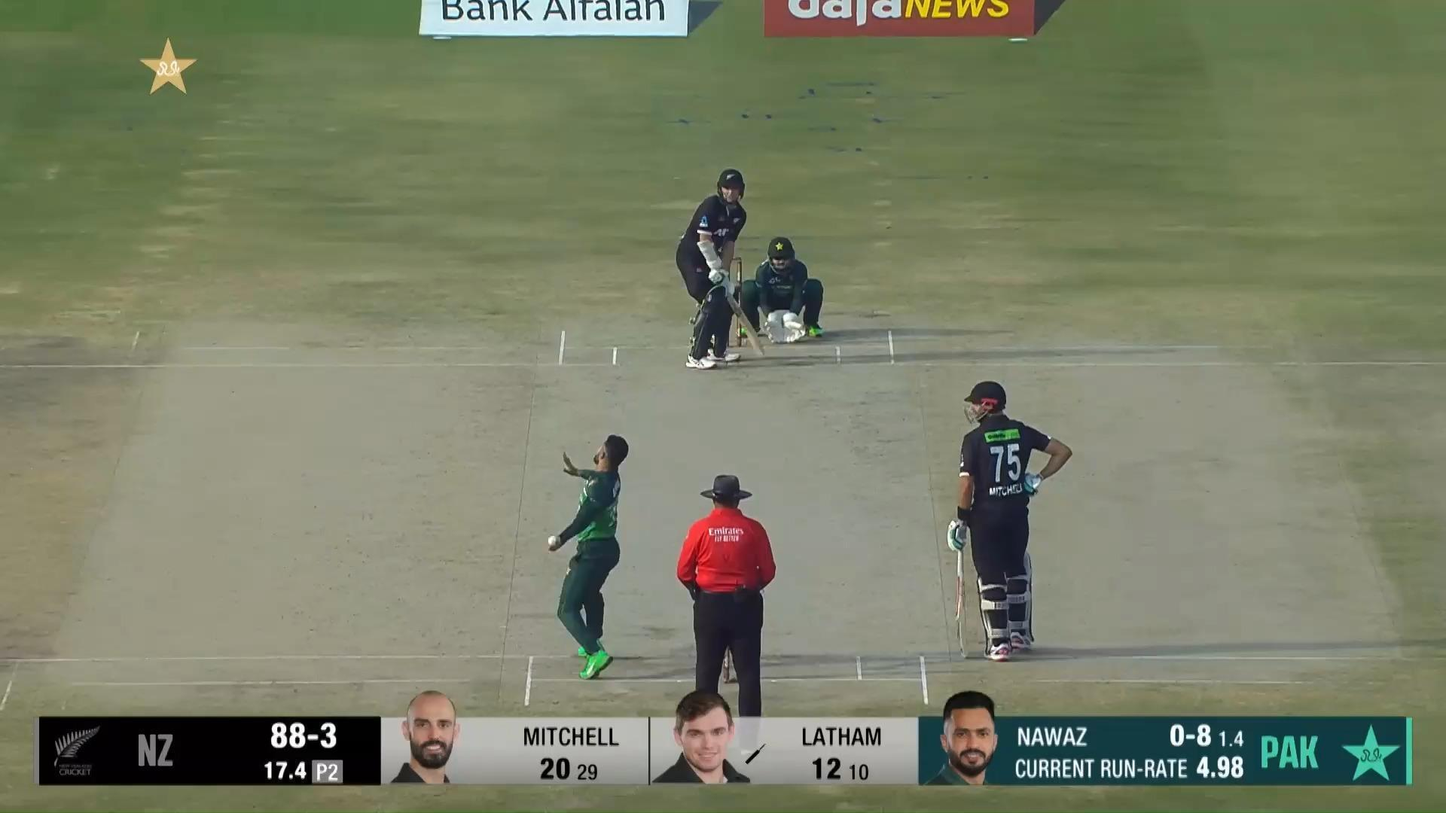BM 1: (676, 169, 765, 370)
BO: (549, 433, 629, 681)
